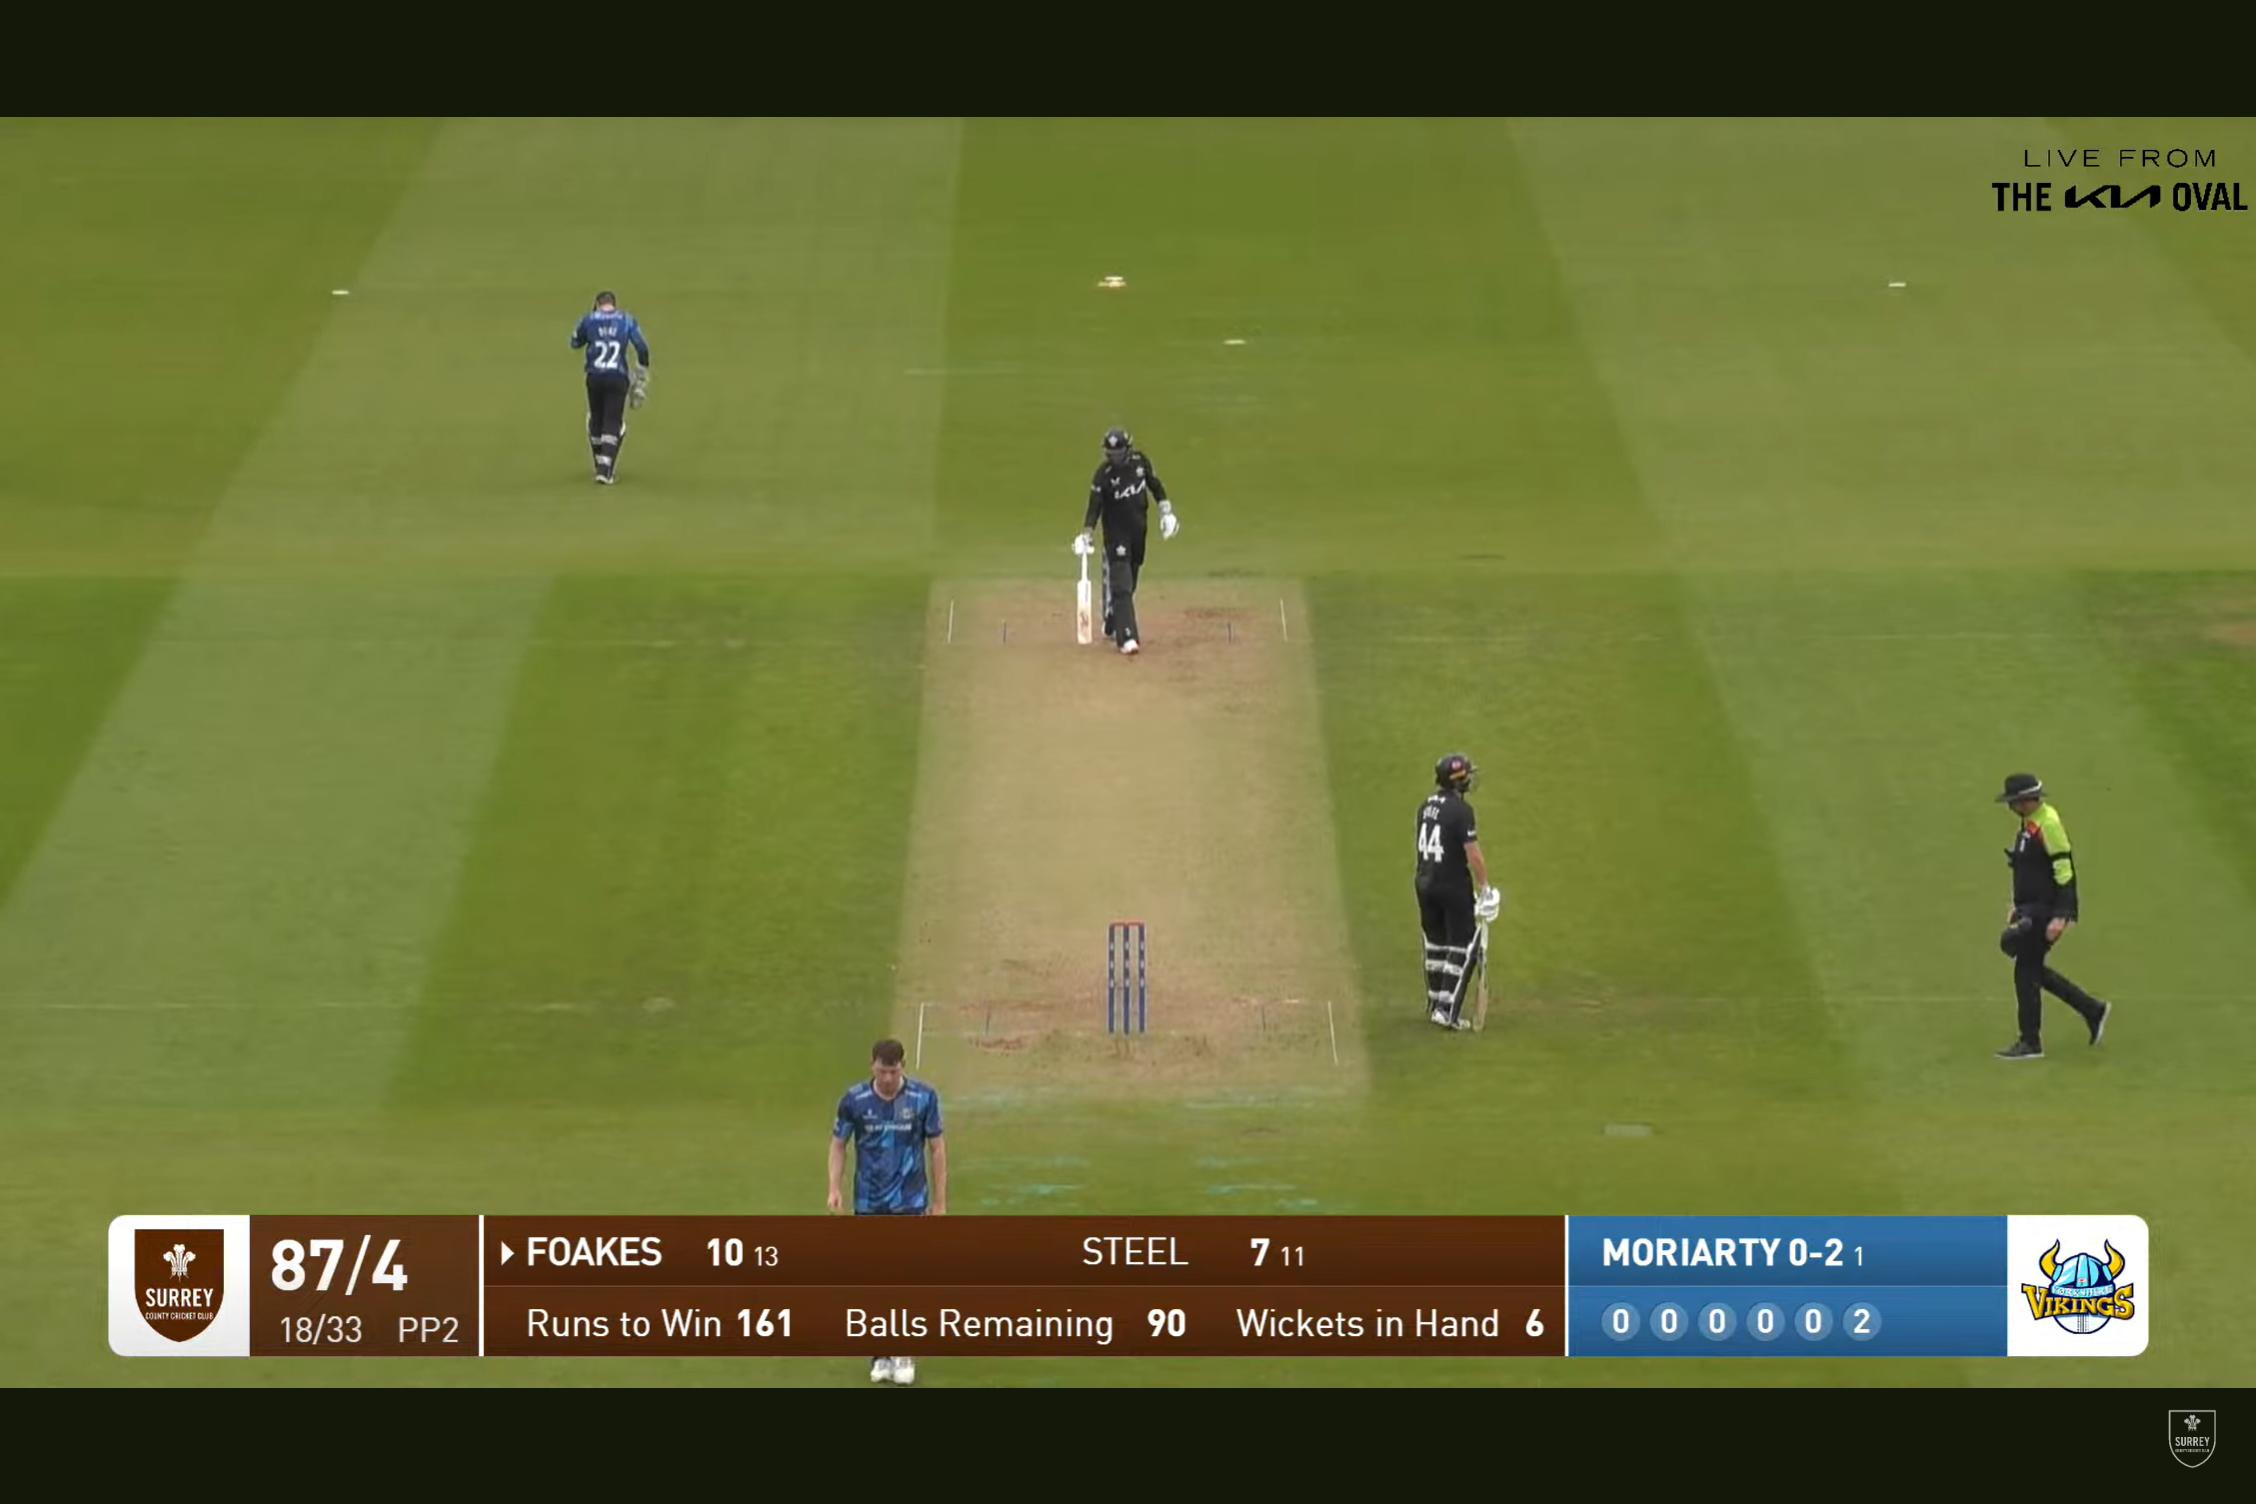batsman: (1041, 426, 1197, 680)
bowler walking back: (828, 1012, 957, 1210)
non striker: (1407, 728, 1522, 1047)
stumps: (1083, 903, 1172, 1047)
umpire: (1940, 750, 2132, 1081)
wicket keeper: (540, 258, 675, 493)
